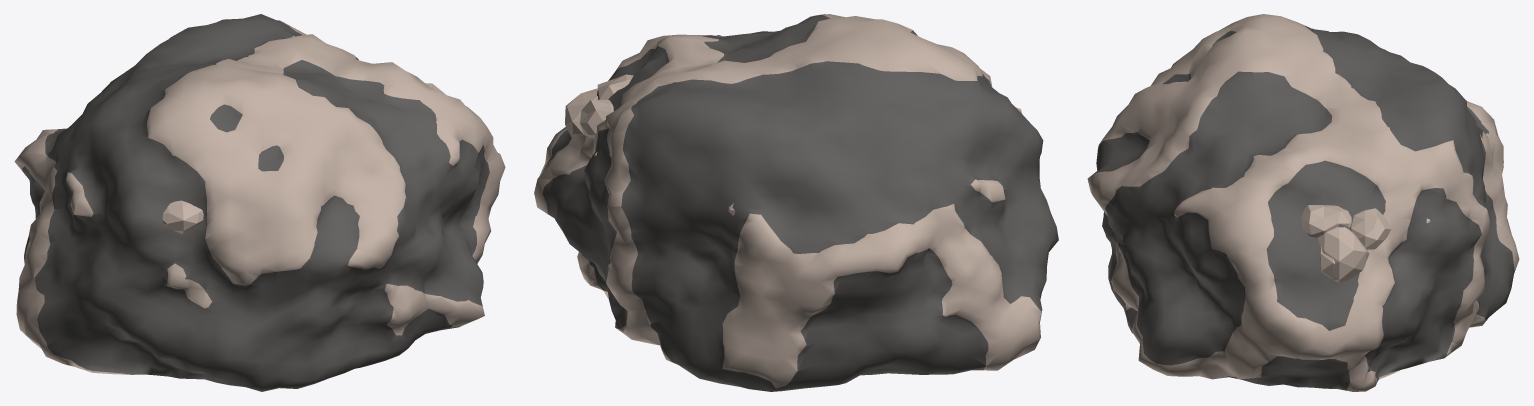
File: iron_deep.glb
3 renders of one model, left to right at view 1: azimuth 30°, elevation 25°; view 2: azimuth 150°, elevation 25°; view 3: azimuth 270°, elevation 25°, orthographic. The views are drawn at different scales.
Parts seen in each view (by area): view 1: iron_deep; view 2: iron_deep; view 3: iron_deep.
Boxes of the visible parts, x1=… form: iron_deep: x1=14, y1=14, x2=505, y2=391; iron_deep: x1=534, y1=14, x2=1058, y2=391; iron_deep: x1=1087, y1=14, x2=1519, y2=391.
Bounding box in the file's own units: 1.98 × 1.04 × 1.61.
